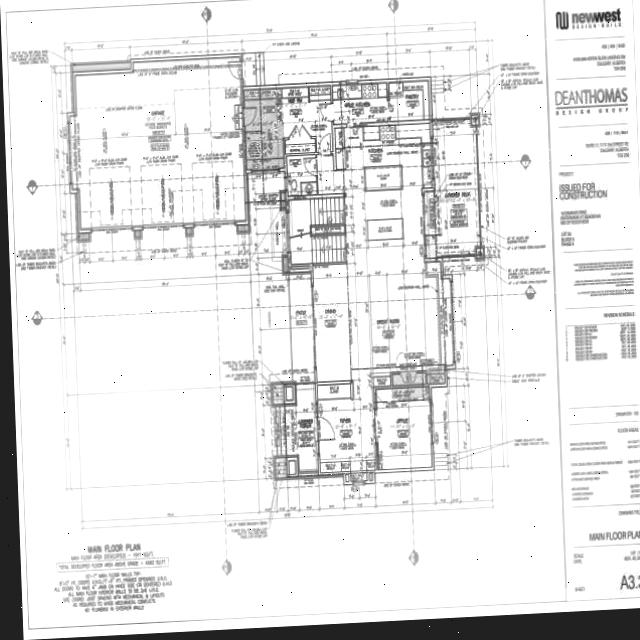room: (66, 57, 248, 230), (243, 86, 335, 170), (376, 387, 432, 469), (332, 83, 389, 124), (389, 81, 430, 121), (286, 155, 317, 196), (285, 139, 315, 154), (308, 87, 310, 102)
